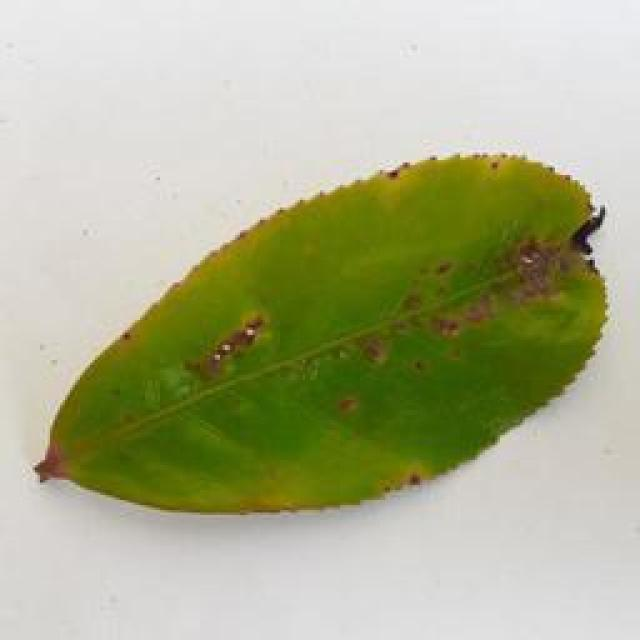Helopeltis: (33, 128, 634, 546)
